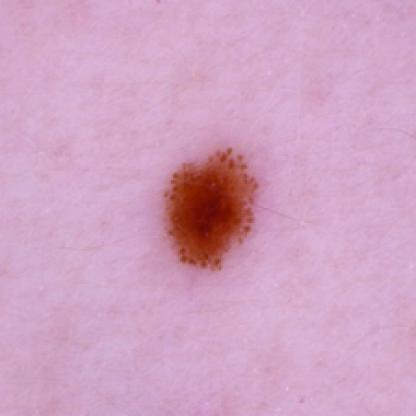benign: (154, 156, 264, 264)
